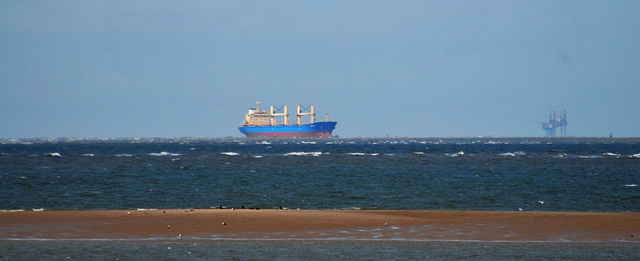bulk carrier: (235, 103, 341, 140)
